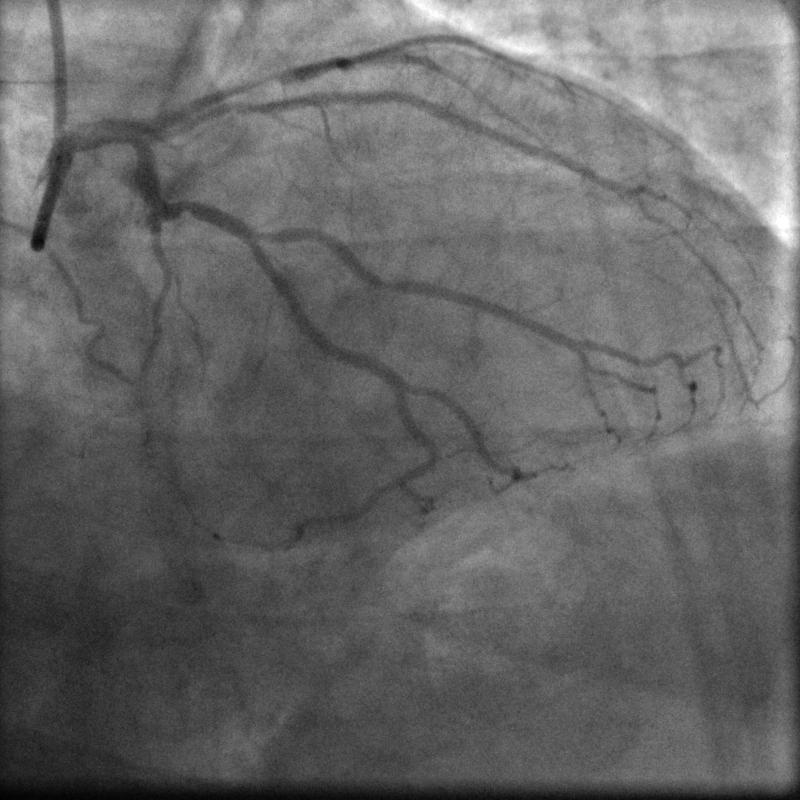Stenosis: (174, 197, 198, 224)
